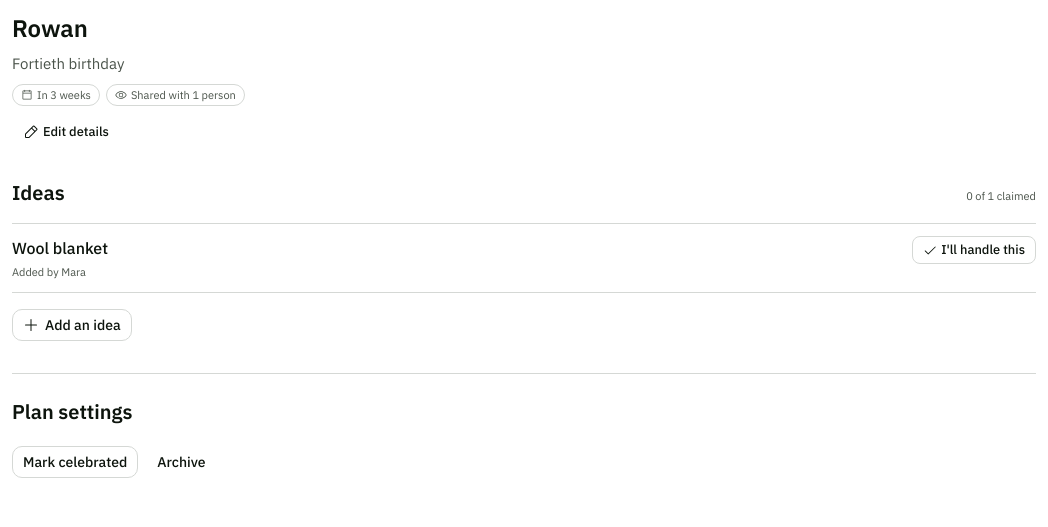
losing a claim race › corrects the row in place and says who has it, beside the idea
Click the button "I'll handle this". click: [974, 250]
box: 912,236 -> 1036,264
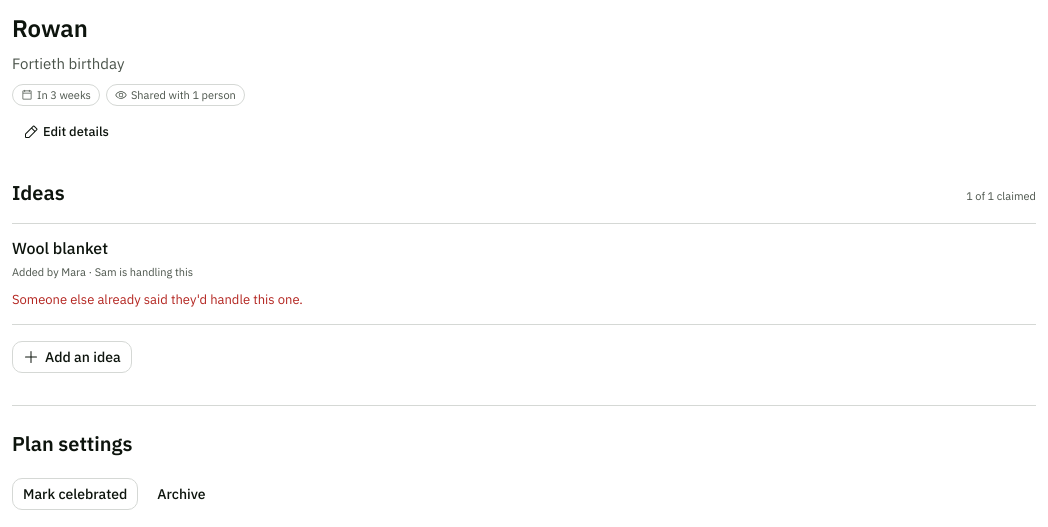
expect the text "Added by Mara · Sam is handling this" is shown: met, box 12,265 -> 193,279
expect the button "I'll handle this" is gone: met
expect the message shows "already said they'd handle": met, box 12,291 -> 303,308
